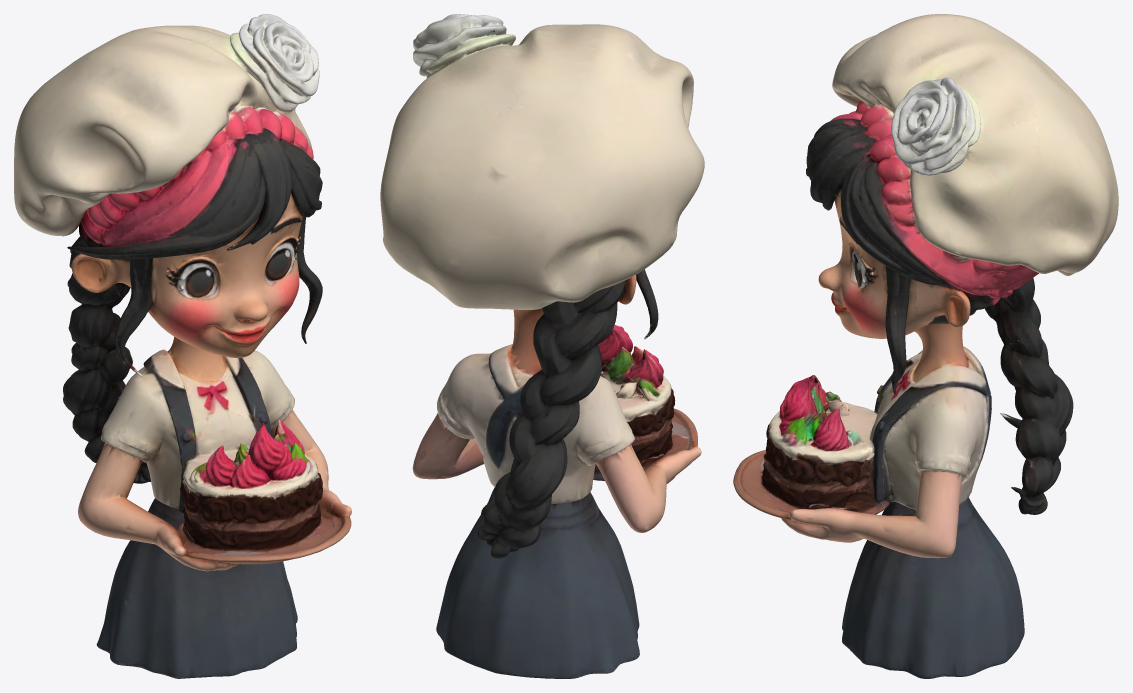
Rendered from cinderella3D.glb.
The picture shows the model from 3 angles, left to right: view 1: azimuth 30°, elevation 25°; view 2: azimuth 150°, elevation 25°; view 3: azimuth 270°, elevation 25°; orthographic projection. The views are drawn at different scales.
Size of the model in its own units: 0.8357 by 1.71 by 1.01.
Materials: 1 (1 with a texture image).
